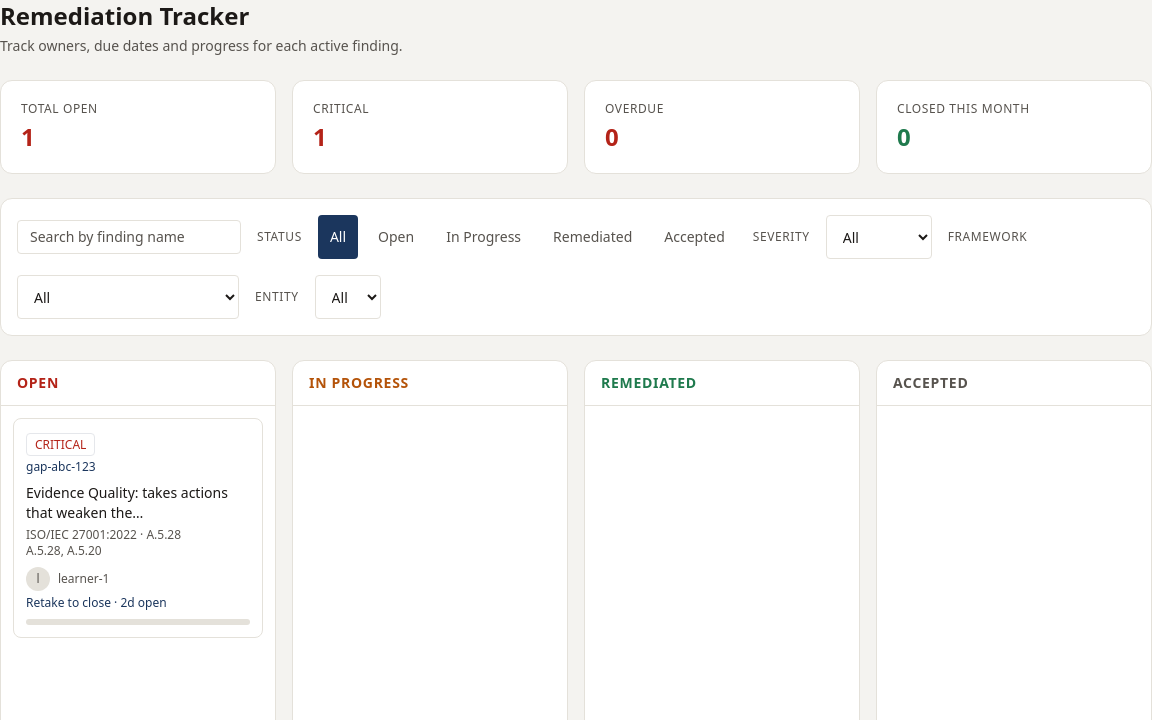
Scenario: Remediation Tracker · competency gaps › refuses a manual close locally, without a request the API would reject
The width and height of the screenshot is (1152, 720).
Click the text "Evidence Quality: takes actions that weaken the…" at {"x": 138, "y": 503}, box [26, 483, 250, 523]
(page scrolled)
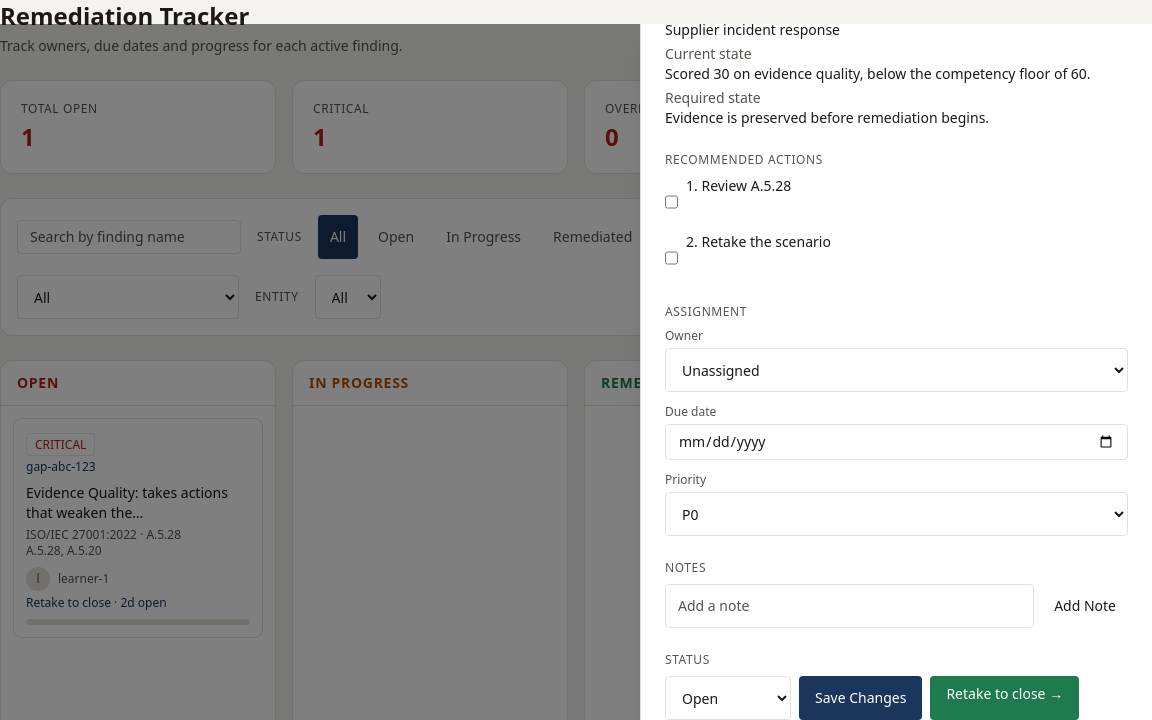
Select "Remediated" in the dropdown named "Finding status" at {"x": 728, "y": 698}, box [665, 676, 791, 719]
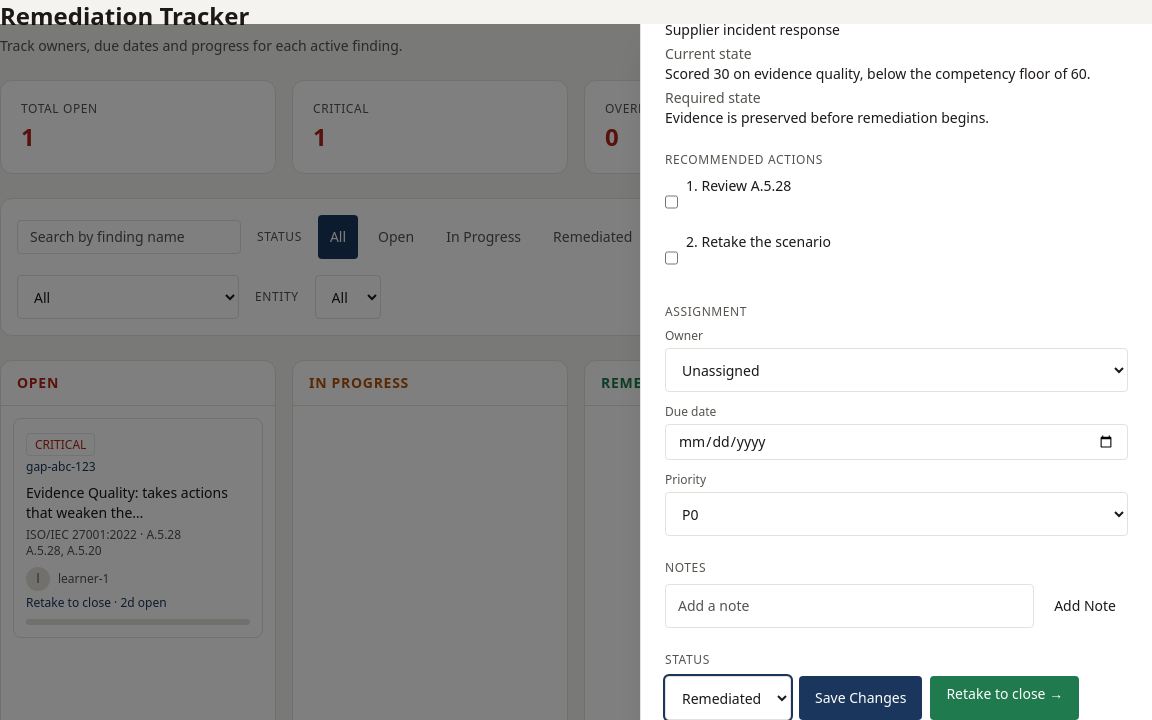
Click the button "Save Changes" at {"x": 861, "y": 698}, box [799, 676, 922, 719]
(page scrolled)
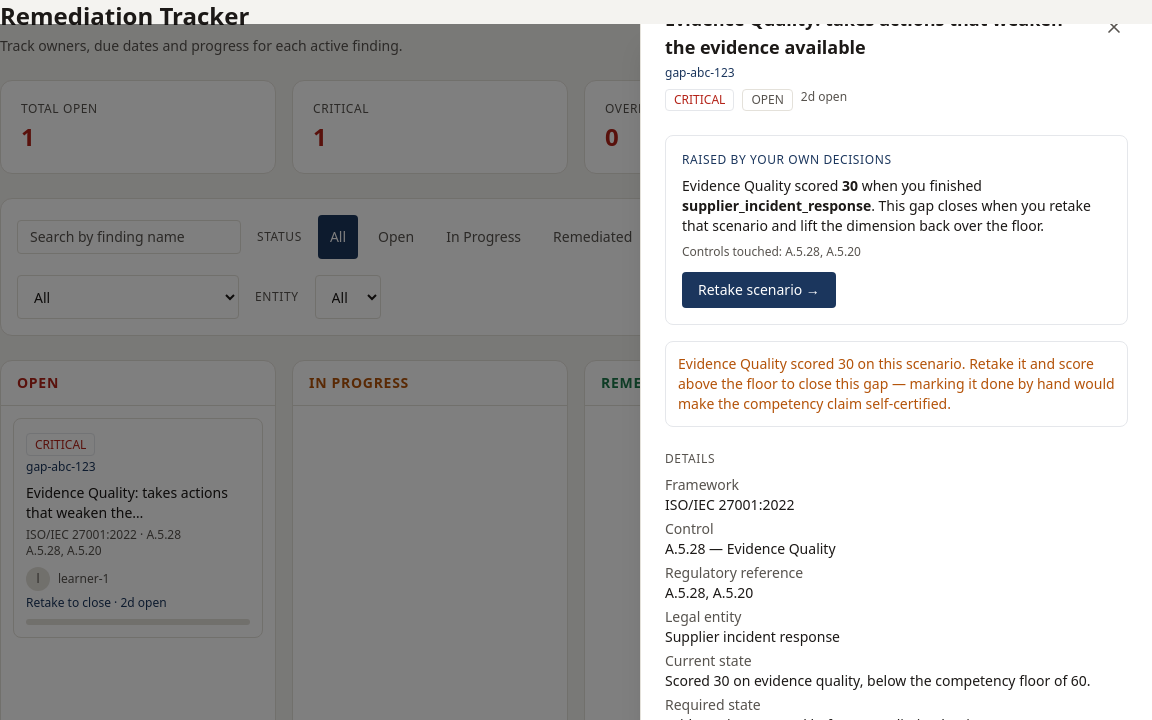
Check: the message is shown, box [665, 341, 1128, 427]
Check: the message shows "Retake it and score above the floor", box [678, 354, 1115, 413]
